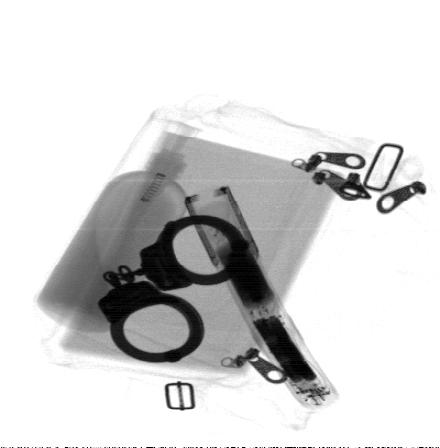Baton: (183, 183, 340, 411)
HandCuffs: (95, 213, 250, 365)
